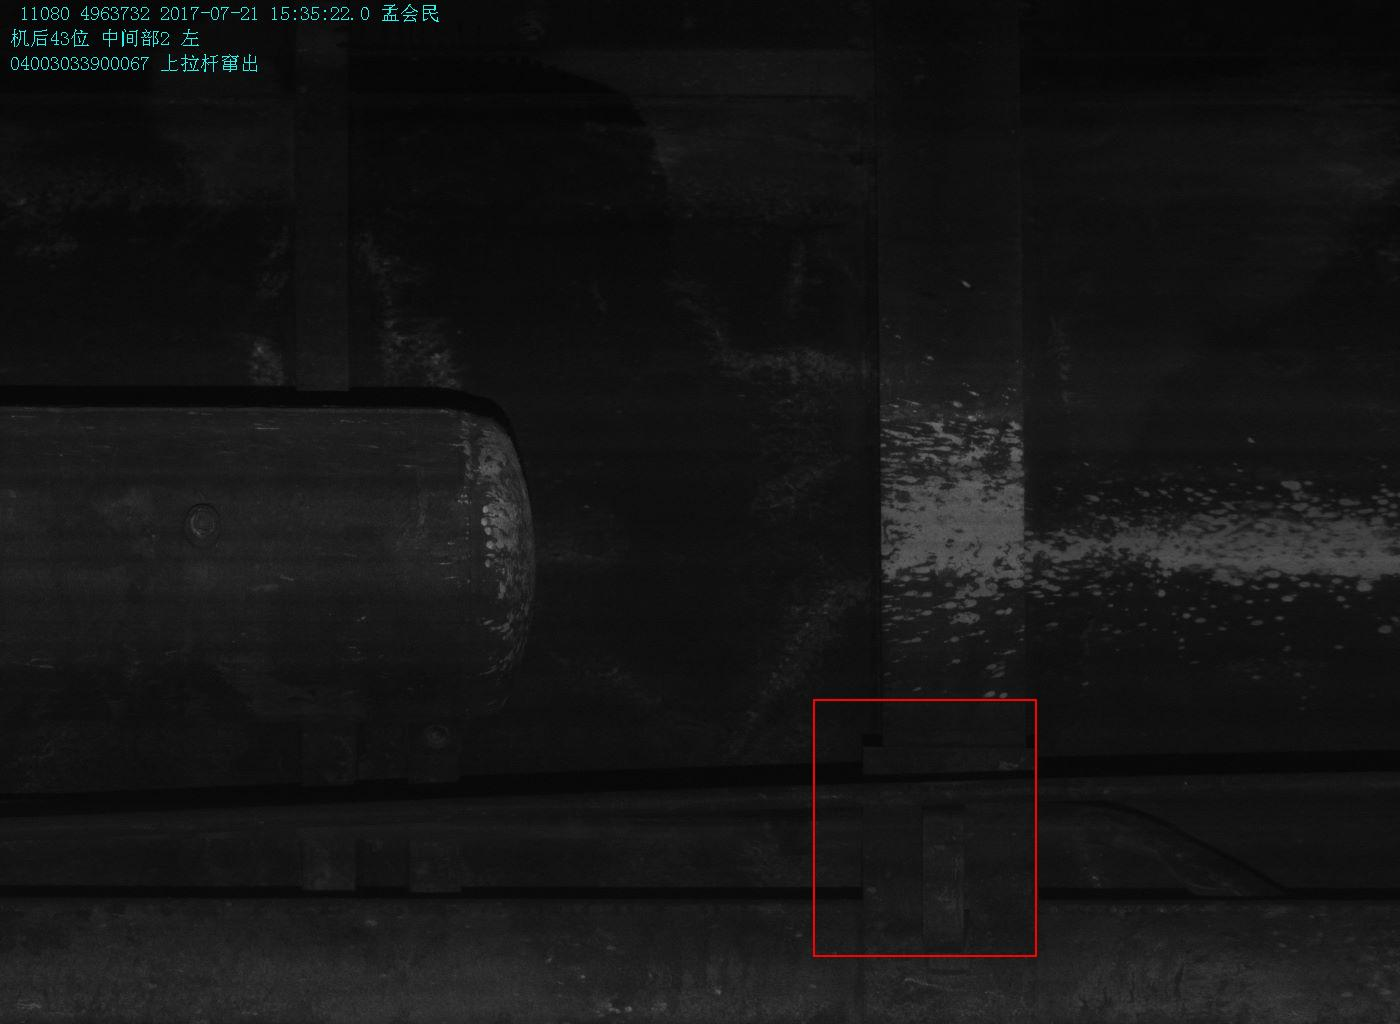upper lever: (918, 775, 965, 987)
